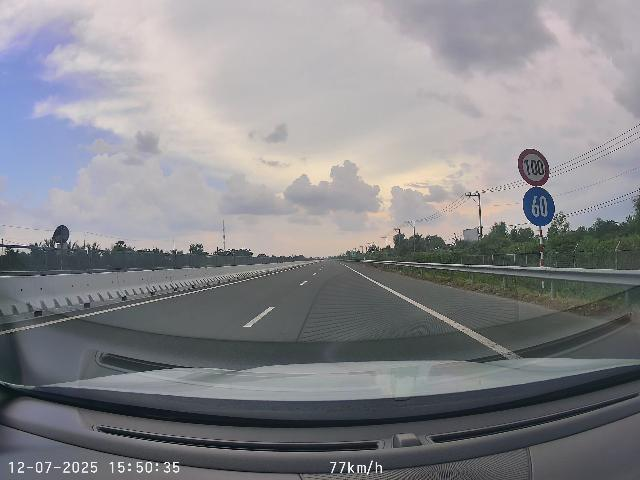127-toc-do-toi-da-100: (518, 148, 550, 187)
306-toc-do-toi-thieu-60: (522, 187, 555, 227)
